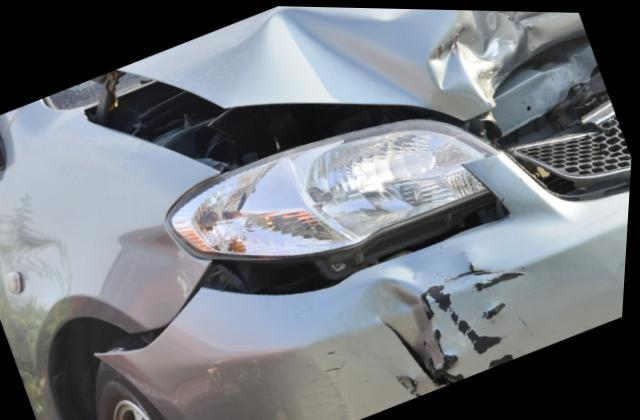crack: (382, 317, 456, 386)
dent: (259, 5, 588, 112), (372, 275, 450, 371)
dislocated part: (101, 147, 632, 420), (80, 5, 597, 171)
scratch: (426, 261, 535, 381), (297, 344, 362, 420), (397, 372, 428, 397)
